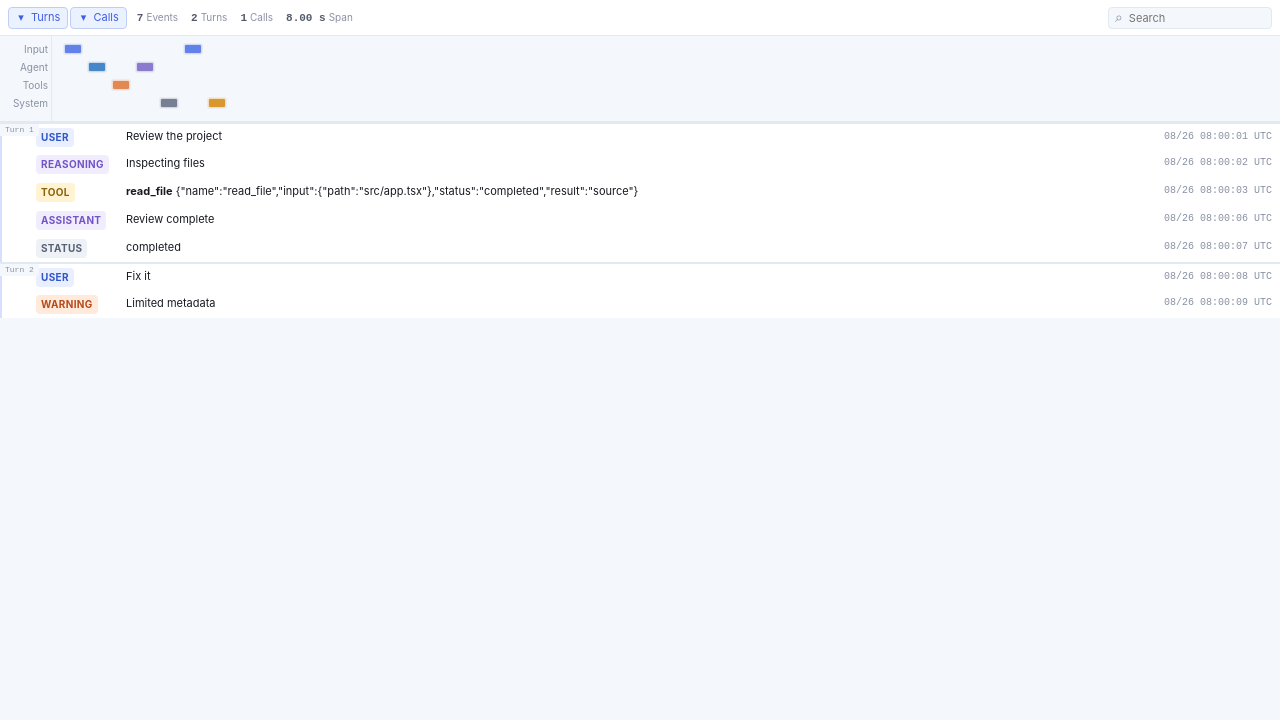
Test: DSH trajectory canvas › selects a ledger record from the overview timeline
Click the button named "read_file: {\"name\":\"read_file\",\"input\":{\"path\":\"src/app.tsx\"": coordinates (121, 85) x1=112 y1=80 x2=130 y2=90
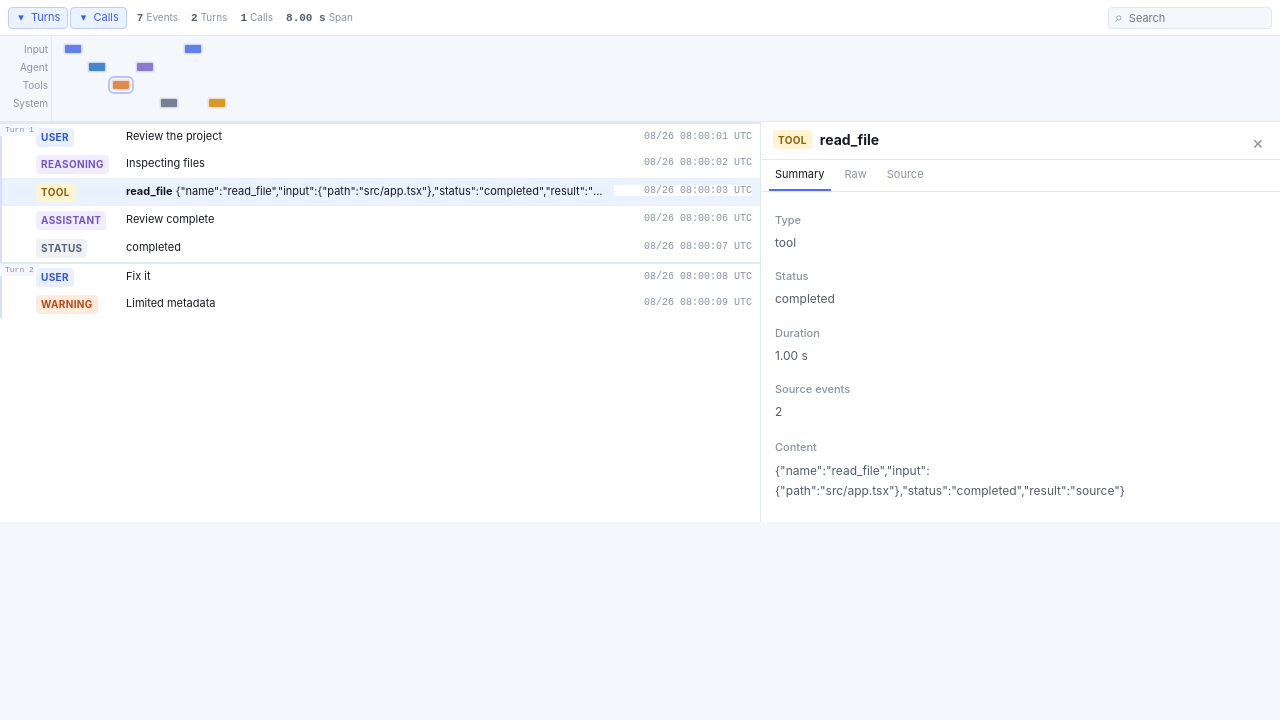
Now the element named "Event details" shows "read_file", box x1=820 y1=131 x2=879 y2=148
